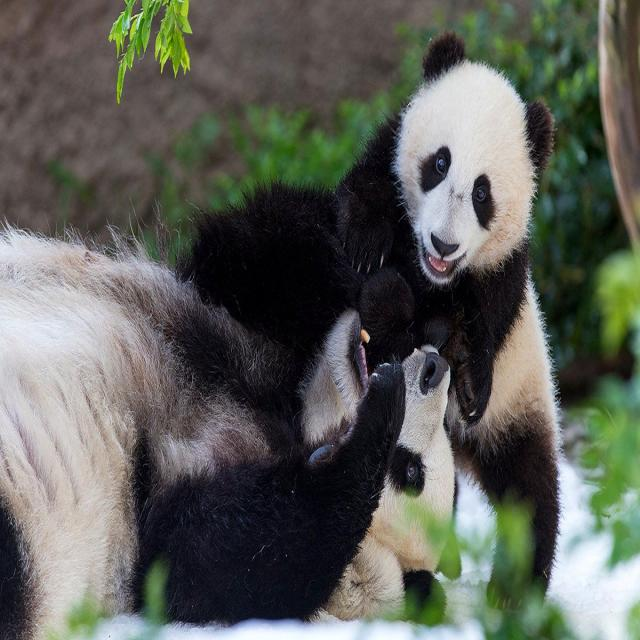panda: (0, 182, 460, 639), (336, 33, 560, 577)
